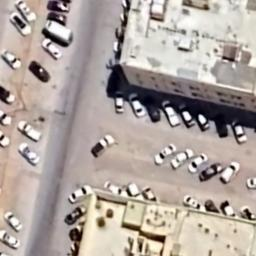SUV: (125, 182, 143, 206)
pickup: (15, 115, 43, 143), (91, 132, 116, 160)
sedan: (16, 140, 41, 168), (170, 145, 194, 172), (27, 58, 51, 84), (104, 178, 130, 202), (67, 183, 95, 205), (197, 160, 223, 183), (154, 140, 176, 167), (40, 38, 64, 62), (9, 12, 31, 38), (0, 45, 21, 72), (160, 100, 180, 128), (220, 158, 240, 186), (180, 192, 206, 213), (128, 92, 147, 120), (211, 112, 230, 140), (229, 116, 247, 145), (13, 0, 36, 22), (188, 151, 208, 176), (193, 106, 212, 132), (64, 206, 87, 226), (146, 95, 162, 123), (0, 229, 21, 250), (218, 198, 238, 220), (46, 8, 72, 24), (178, 102, 194, 128), (4, 212, 24, 232), (0, 84, 18, 106), (112, 88, 126, 116), (202, 198, 221, 216), (142, 185, 160, 203), (68, 222, 85, 240), (239, 204, 256, 222), (0, 106, 13, 127), (0, 128, 12, 148), (117, 10, 137, 22), (106, 56, 124, 69), (112, 40, 128, 53), (69, 240, 82, 256), (115, 26, 131, 38), (120, 0, 136, 10), (246, 174, 256, 190)
truck: (42, 18, 74, 46), (43, 0, 73, 11)
